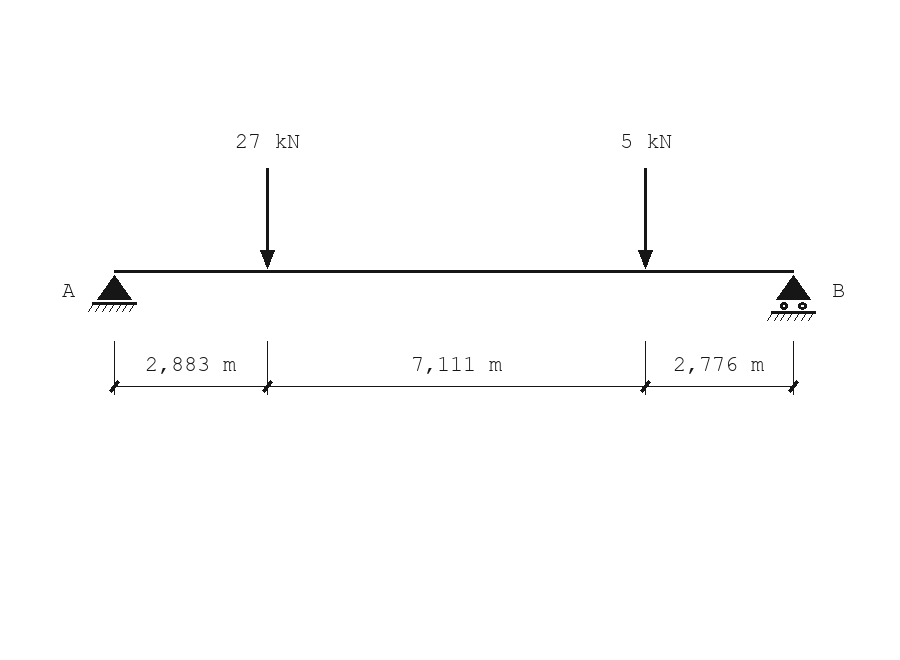pin_support: (88, 275, 137, 312)
point_load: (260, 168, 275, 269), (638, 168, 653, 269)
roller_support: (767, 275, 816, 321)
